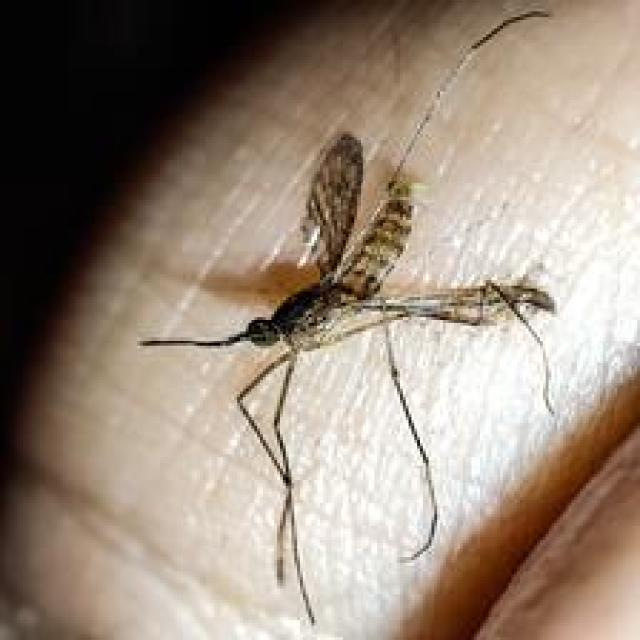Culex: (136, 7, 558, 627)
